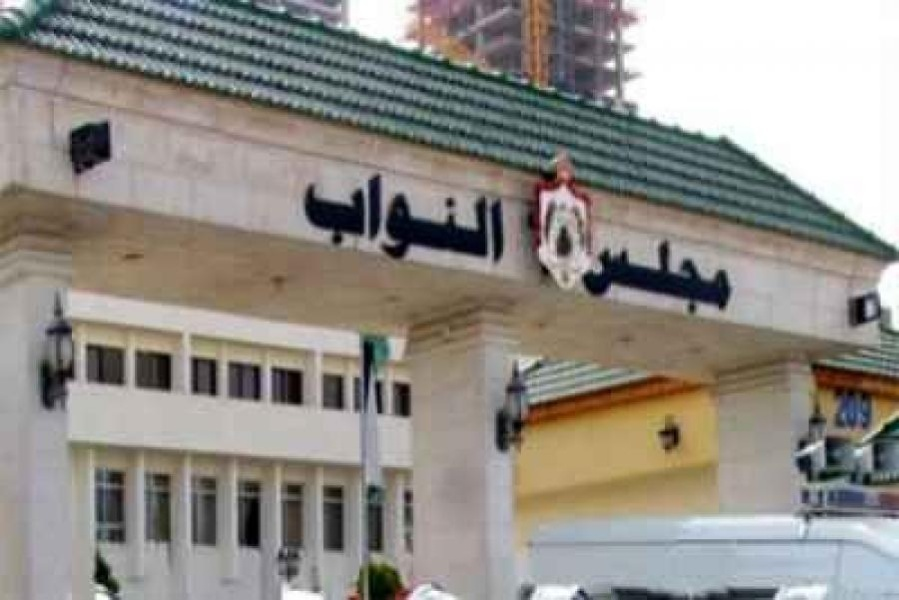text: (305, 160, 320, 279), (321, 160, 336, 279), (337, 160, 352, 279), (353, 160, 368, 279), (369, 160, 384, 279), (385, 160, 400, 279), (401, 160, 416, 279), (417, 160, 432, 279), (433, 160, 448, 279), (449, 160, 464, 279), (465, 160, 480, 279), (481, 160, 496, 279), (497, 160, 510, 279), (593, 225, 608, 323), (609, 225, 624, 323), (625, 225, 640, 323), (641, 225, 656, 323), (657, 225, 672, 323), (673, 225, 688, 323), (689, 225, 704, 323), (705, 225, 720, 323), (721, 225, 736, 323), (581, 225, 592, 323), (833, 384, 848, 432), (849, 384, 864, 432), (865, 384, 876, 432), (829, 384, 832, 432)
